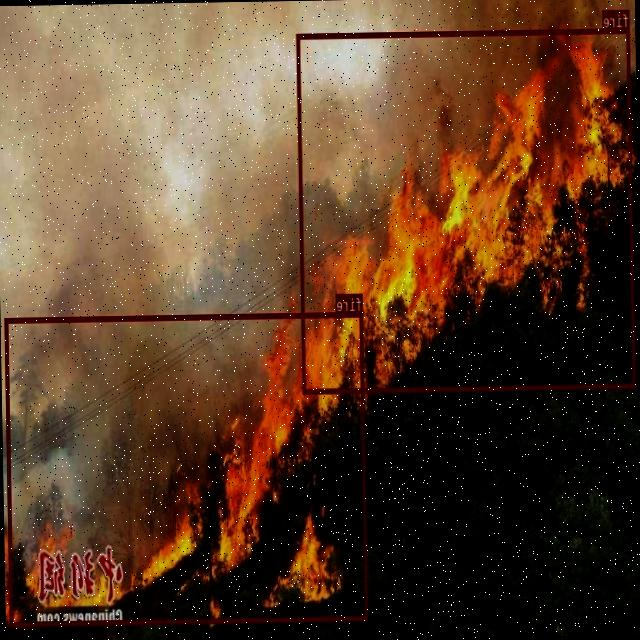fire: (297, 26, 636, 394), (5, 311, 368, 626)
